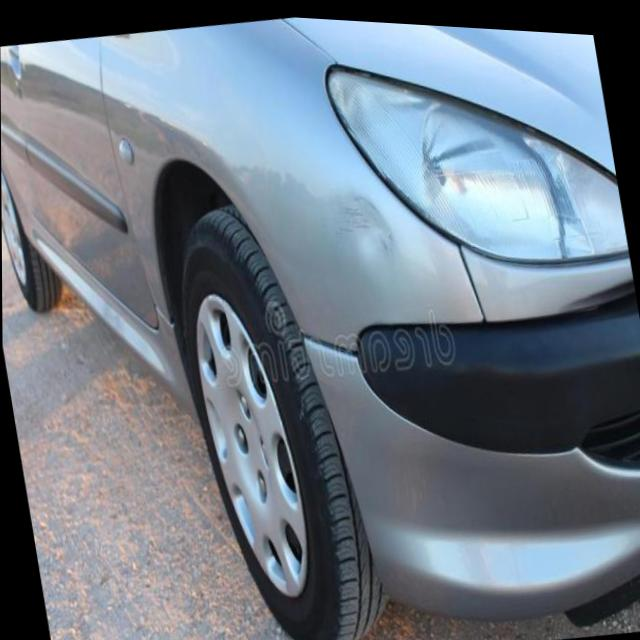Dent: (310, 178, 398, 281)
